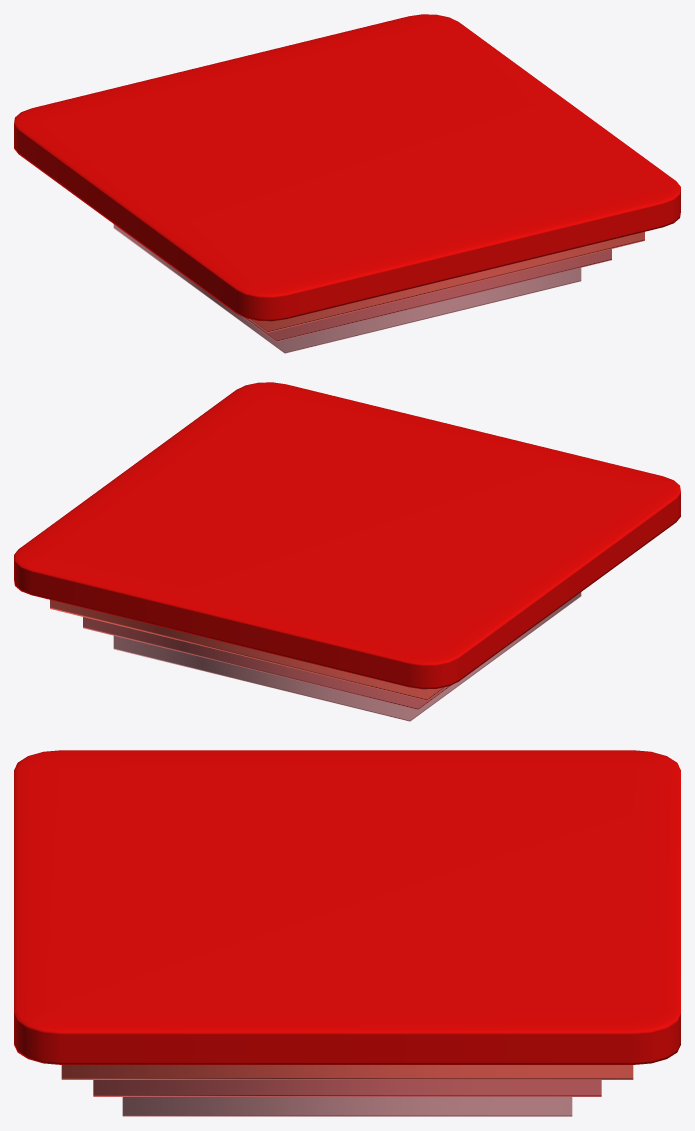
File: Platform.fbx
3 views of the same model, one above another, from view 1: azimuth 30°, elevation 25°; view 2: azimuth 150°, elevation 25°; view 3: azimuth 270°, elevation 25° (orthographic). The views are drawn at different scales.
Visible parts, largest first — view 1: Cube; view 2: Cube; view 3: Cube.
Boxes of the visible parts, x1=… form: Cube: x1=14, y1=14, x2=680, y2=353; Cube: x1=14, y1=382, x2=680, y2=721; Cube: x1=14, y1=750, x2=680, y2=1116.
Size of the model in its own units: 944 by 208 by 944.
